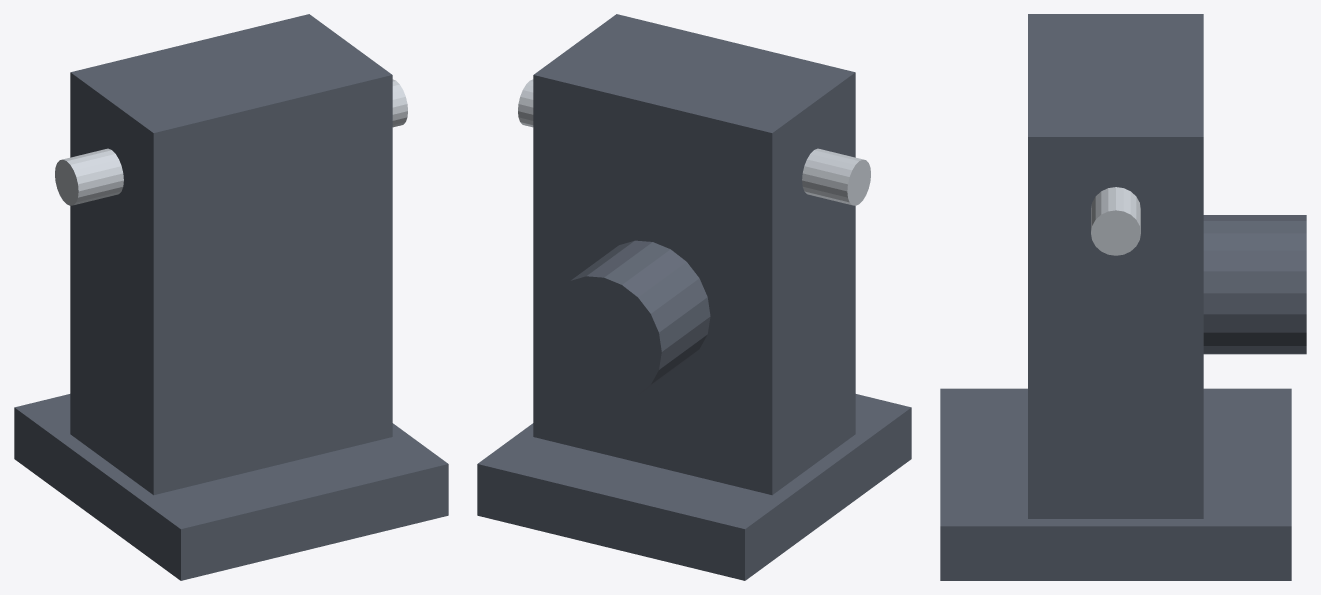
The model's file is wafer-aux-probe-mount-2.glb.
3 renders of one model, left to right at view 1: azimuth 30°, elevation 25°; view 2: azimuth 150°, elevation 25°; view 3: azimuth 270°, elevation 25°, orthographic. The views are drawn at different scales.
Parts seen in each view (by area): view 1: black vertical carriage, black foot, silver positioning shaft; view 2: black vertical carriage, black foot, black fine adjustment, silver positioning shaft; view 3: black vertical carriage, black foot, black fine adjustment, silver positioning shaft.
Boxes of the visible parts, left/top/right/bottom form: black vertical carriage: left=70, top=14, right=392, bottom=495; black foot: left=14, top=394, right=448, bottom=580; silver positioning shaft: left=55, top=79, right=407, bottom=205; black vertical carriage: left=533, top=14, right=855, bottom=495; black foot: left=477, top=394, right=911, bottom=580; black fine adjustment: left=546, top=240, right=710, bottom=399; silver positioning shaft: left=518, top=79, right=870, bottom=205; black vertical carriage: left=1028, top=14, right=1203, bottom=518; black foot: left=940, top=388, right=1291, bottom=580; black fine adjustment: left=1203, top=215, right=1306, bottom=354; silver positioning shaft: left=1091, top=187, right=1140, bottom=255.
Bounding box in the file's own units: 0.08 × 0.096 × 0.073.
